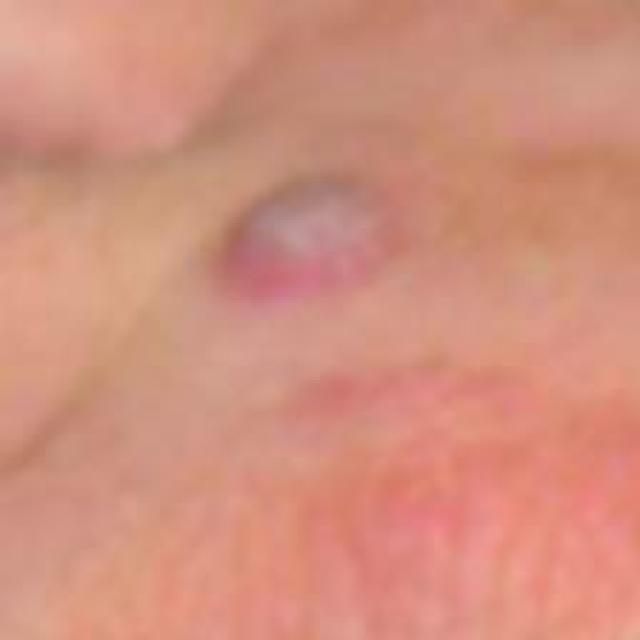monkeypox: (90, 94, 608, 544)
